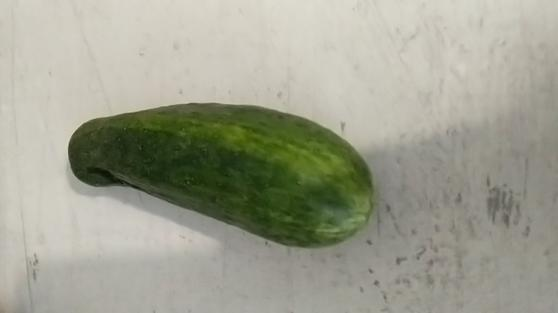cucumber: (71, 100, 375, 241)
